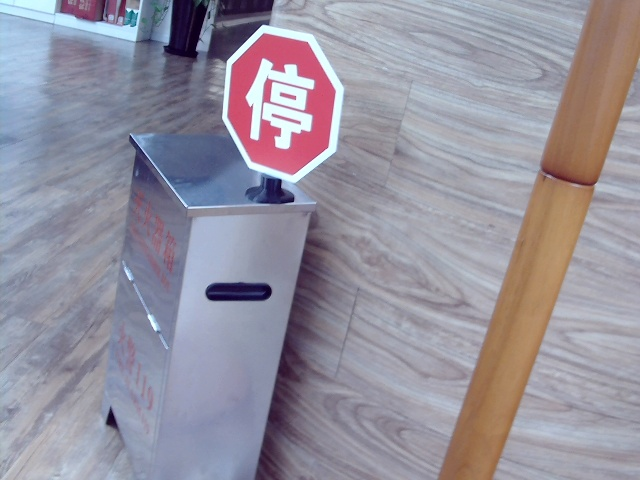stop: (243, 54, 313, 151)
